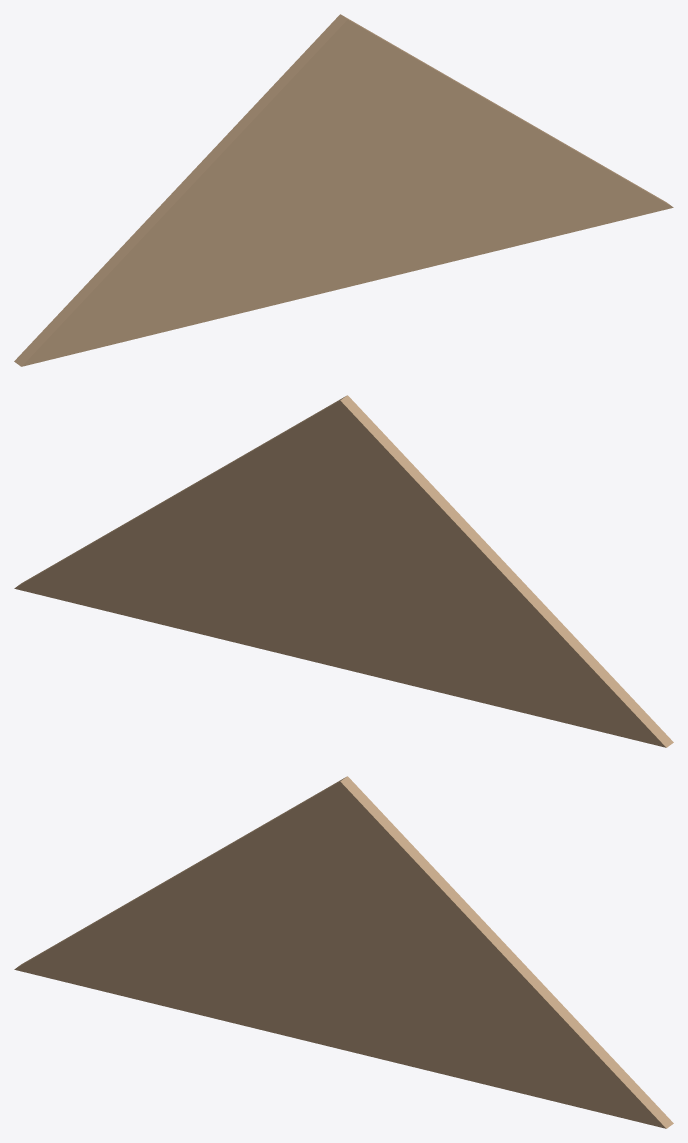
File: Wall2_C1_18.fbx
The picture shows the model from 3 angles, top to bottom: view 1: azimuth 30°, elevation 25°; view 2: azimuth 150°, elevation 25°; view 3: azimuth 330°, elevation 25°; orthographic projection.
Visible parts, largest first — view 1: Wall2_C1_18; view 2: Wall2_C1_18; view 3: Wall2_C1_18.
Part boxes in pixels (x1=…): Wall2_C1_18: x1=14, y1=14, x2=673, y2=366; Wall2_C1_18: x1=14, y1=395, x2=673, y2=747; Wall2_C1_18: x1=14, y1=776, x2=673, y2=1128.
Size of the model in its own units: 765 by 300 by 15.
